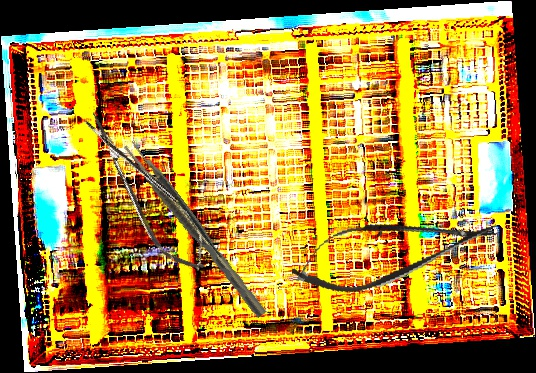Micro Scissor: (74, 100, 218, 283), (285, 196, 504, 306)
Tissue Forceps: (122, 137, 267, 323)
